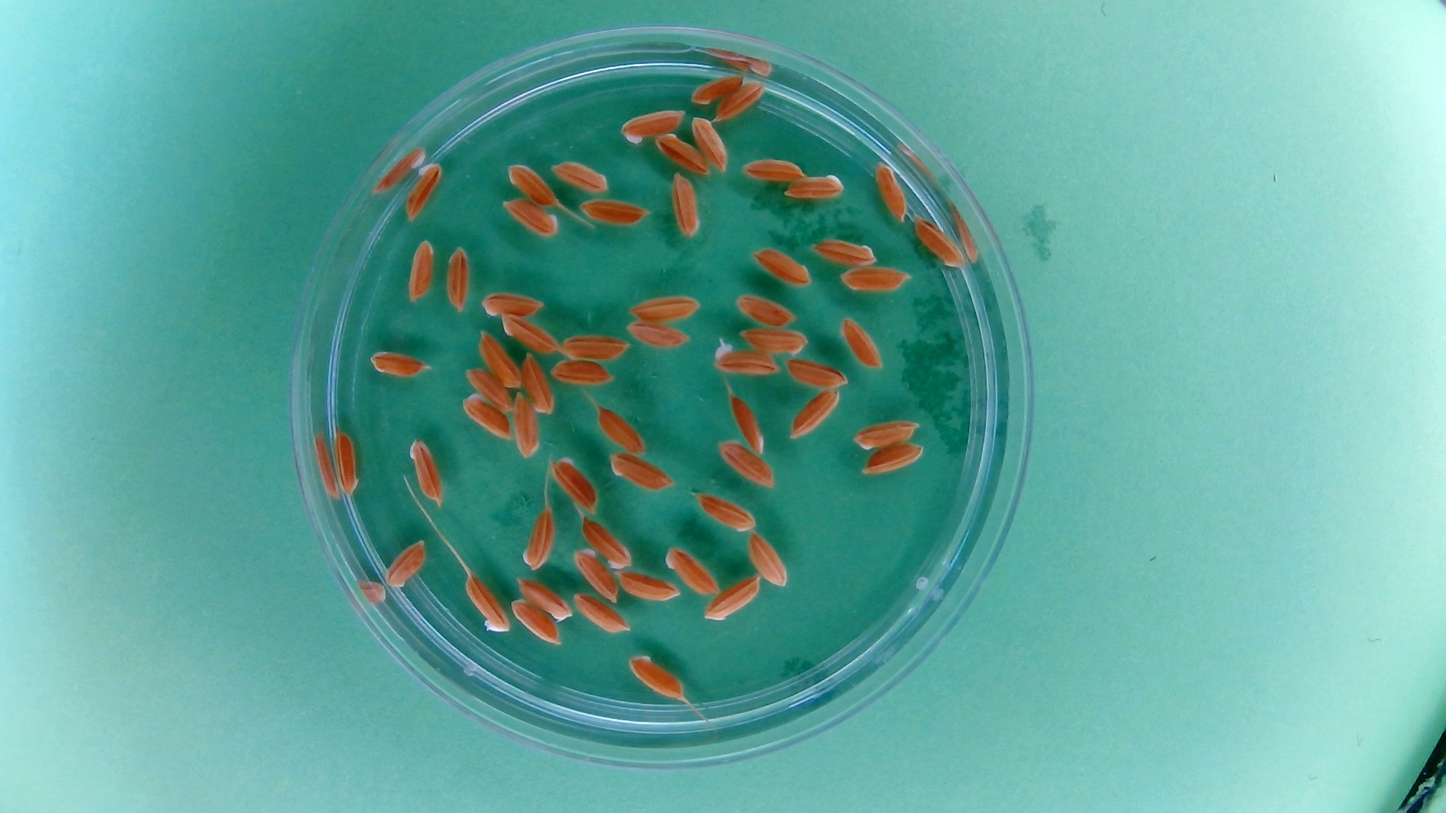no: (547, 452, 600, 516), (715, 437, 777, 490), (579, 513, 635, 571), (605, 450, 676, 495), (626, 650, 687, 702), (462, 570, 510, 636), (474, 328, 524, 391), (911, 214, 967, 269), (787, 386, 842, 442), (405, 434, 445, 509), (750, 244, 815, 290), (459, 389, 512, 445), (663, 544, 719, 597), (569, 544, 619, 603), (702, 573, 761, 623), (499, 196, 563, 242), (593, 403, 646, 458), (514, 574, 573, 623), (499, 311, 563, 356), (617, 106, 687, 147), (651, 130, 710, 178), (837, 312, 885, 371), (508, 597, 563, 647), (504, 160, 560, 209), (575, 194, 651, 230), (624, 291, 704, 325), (694, 491, 757, 534), (460, 364, 513, 415), (712, 78, 770, 124), (746, 530, 791, 589), (403, 159, 444, 223), (555, 330, 632, 364), (572, 592, 632, 635), (733, 290, 799, 329), (728, 391, 768, 455), (667, 171, 703, 242), (519, 349, 557, 416), (688, 113, 730, 173), (780, 354, 850, 390), (872, 158, 910, 224), (549, 157, 613, 196), (383, 536, 429, 590), (837, 264, 914, 296), (623, 317, 692, 352), (808, 233, 877, 268), (520, 507, 557, 572), (851, 417, 920, 451), (615, 568, 682, 603), (739, 324, 810, 357), (860, 442, 926, 477), (509, 389, 541, 461), (330, 427, 362, 498), (477, 288, 547, 320), (687, 70, 746, 107), (782, 170, 848, 203), (737, 153, 807, 184), (367, 347, 432, 380), (405, 236, 437, 303), (442, 244, 472, 314)
yes: (712, 339, 781, 378)
